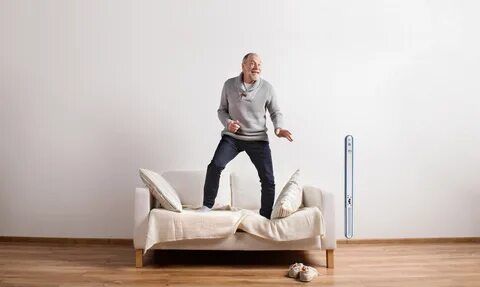awake: (201, 52, 294, 214)
